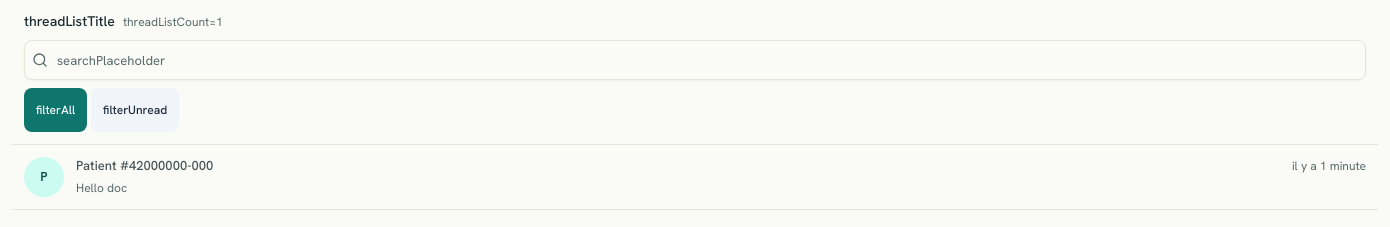
it: ThreadList (iter 2) › rendering states › empty result avec filtre Non lus → emptyStateFiltered
This screenshot has width=1390, height=227.
Click the button "filterUnread" at (135, 110), box [91,88,179,132]
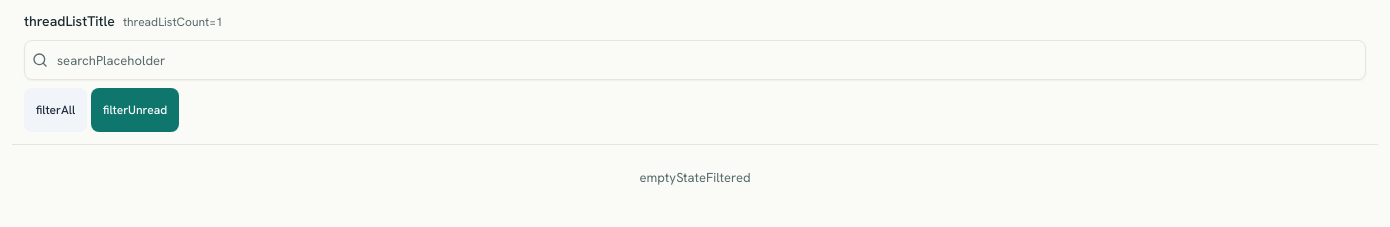
Check: the text "emptyStateFiltered" is shown, box [640,169,751,188]
